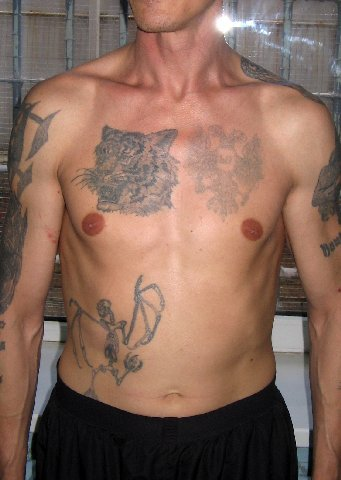tatu5_tigr: (78, 124, 179, 212)
